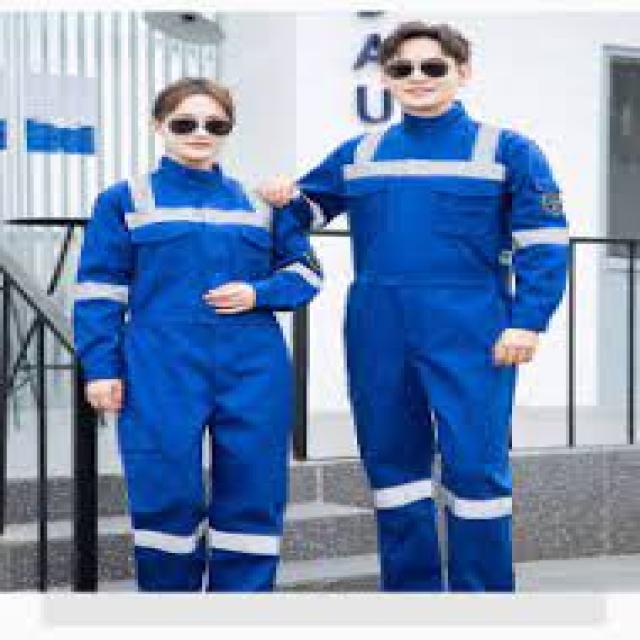vest: (292, 108, 571, 592), (77, 155, 328, 594)
